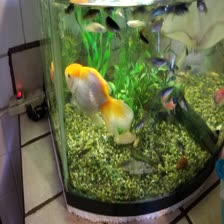Cuezo: (63, 61, 132, 137)
Guppy: (147, 81, 176, 100), (72, 145, 91, 163), (81, 22, 108, 32), (145, 53, 164, 66), (132, 114, 145, 132), (175, 139, 187, 152)
